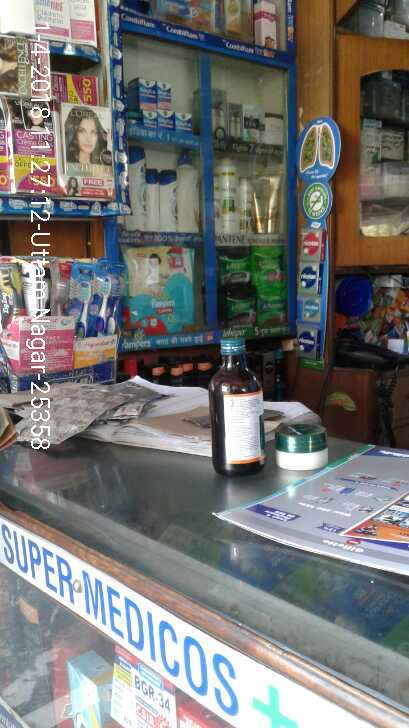vicks: (130, 75, 196, 131)
